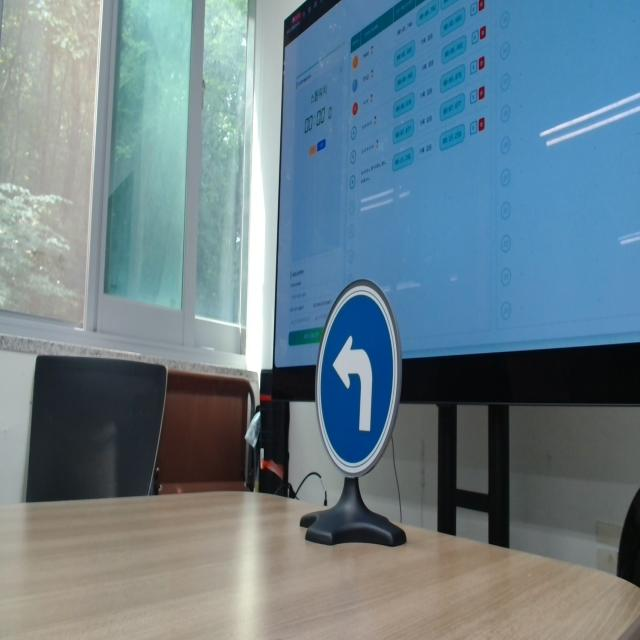left_direction: (316, 280, 400, 474)
